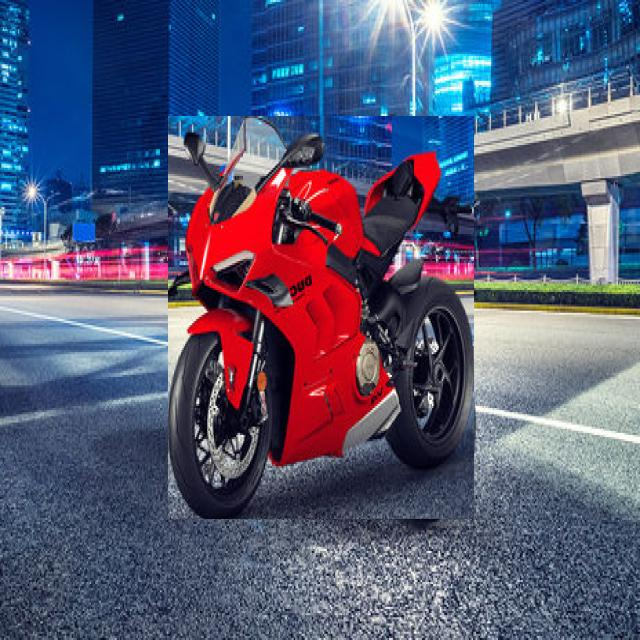motorcycle: (169, 117, 474, 519)
